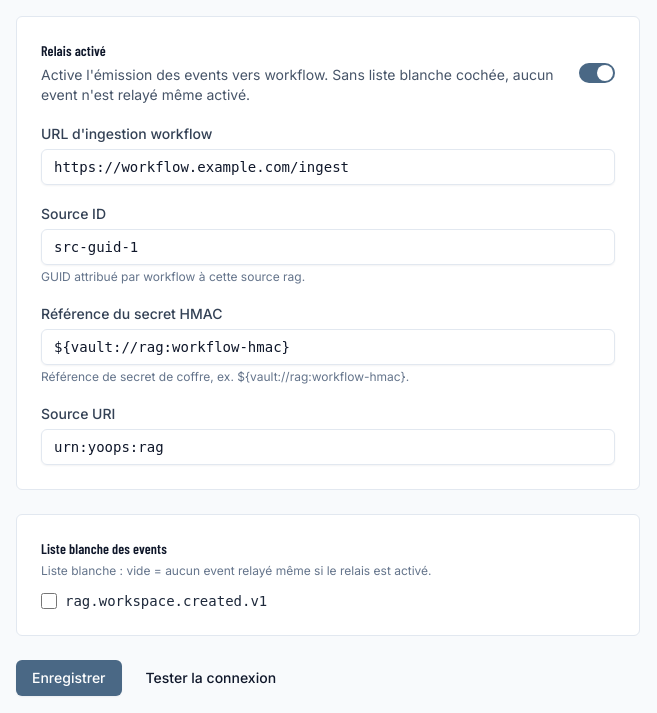
Test: EventsProducerPage › affiche le message producer_not_configured
(page scrolled)
Click the button "Tester la connexion" at {"x": 211, "y": 678}, box [130,660,292,696]
(page scrolled)
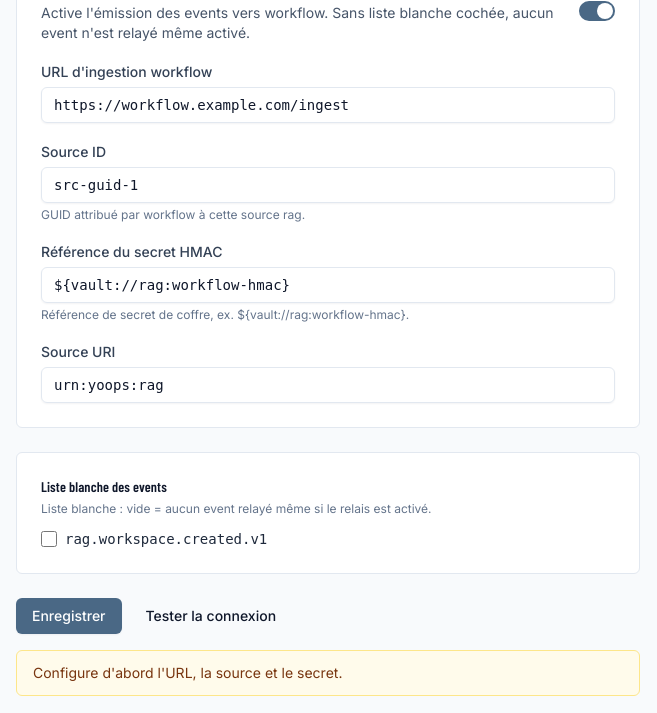
Expected: the text "Configure d'abord l'URL, la source et le secret." is shown, [16,650,640,696]
